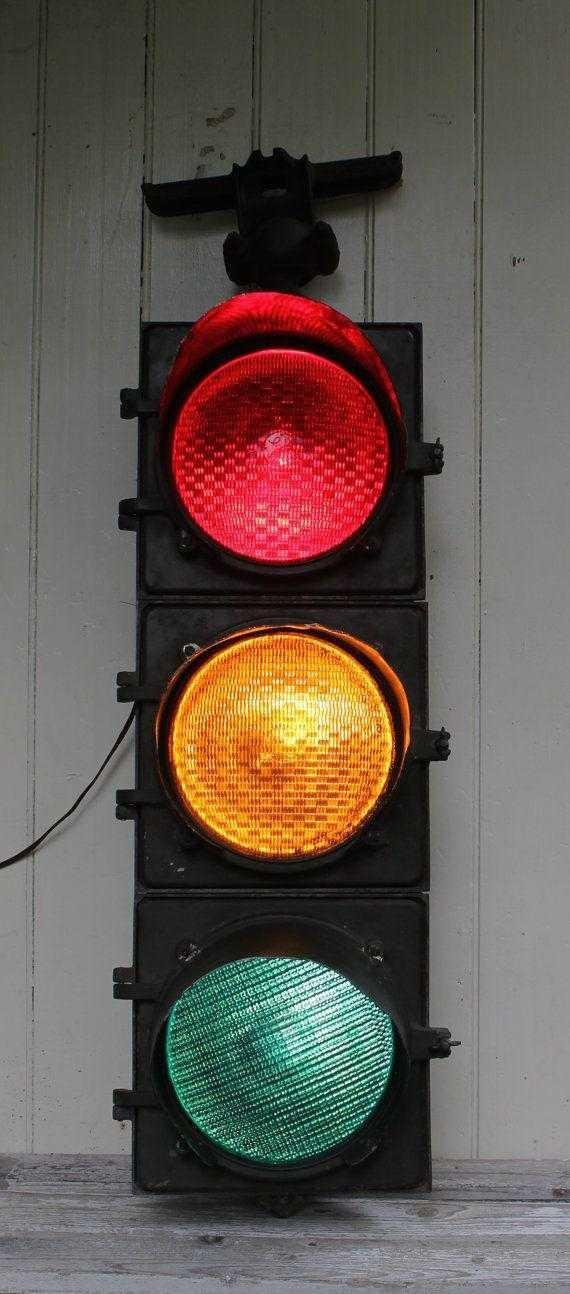5: (153, 310, 410, 584)
9: (138, 613, 428, 890)
red traffic light: (164, 895, 414, 1174)
